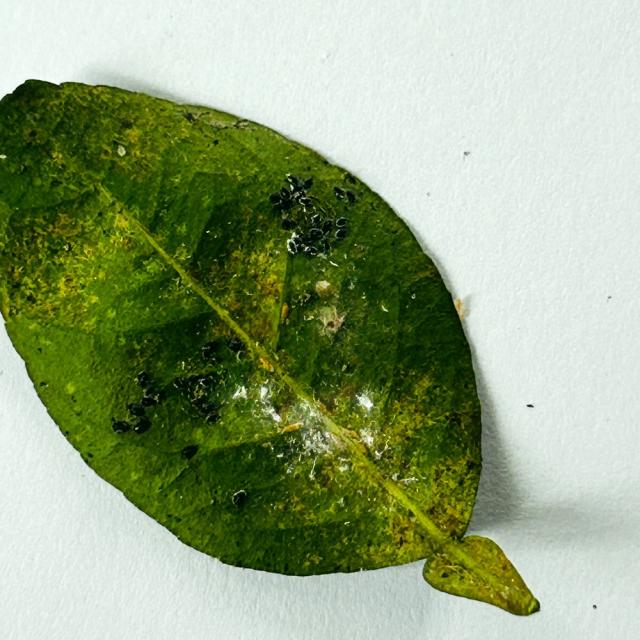Bacterial_Blight: (198, 337, 244, 367), (333, 185, 357, 204), (201, 340, 220, 360), (179, 446, 201, 463), (191, 395, 210, 413), (132, 417, 151, 434), (180, 444, 199, 460), (111, 419, 131, 434), (227, 336, 244, 353), (189, 373, 207, 389), (127, 402, 146, 417), (140, 393, 159, 408), (199, 373, 218, 388), (135, 371, 151, 388), (232, 490, 247, 508), (445, 413, 463, 428), (281, 217, 297, 232), (151, 387, 166, 403), (201, 403, 218, 416), (268, 191, 283, 205), (287, 239, 301, 254), (342, 362, 356, 376), (205, 412, 220, 425), (173, 376, 188, 389), (182, 111, 196, 124), (308, 228, 323, 240), (301, 177, 314, 190), (343, 173, 357, 185), (321, 220, 333, 234), (335, 217, 350, 228), (118, 119, 134, 129), (320, 240, 331, 254), (298, 197, 313, 207), (335, 228, 347, 240), (25, 292, 37, 304), (50, 178, 64, 188), (310, 214, 321, 226), (28, 129, 38, 139), (11, 280, 22, 289), (327, 320, 335, 328), (39, 381, 48, 388), (86, 452, 94, 459), (212, 139, 219, 146)
Lemon: (0, 79, 540, 618)
